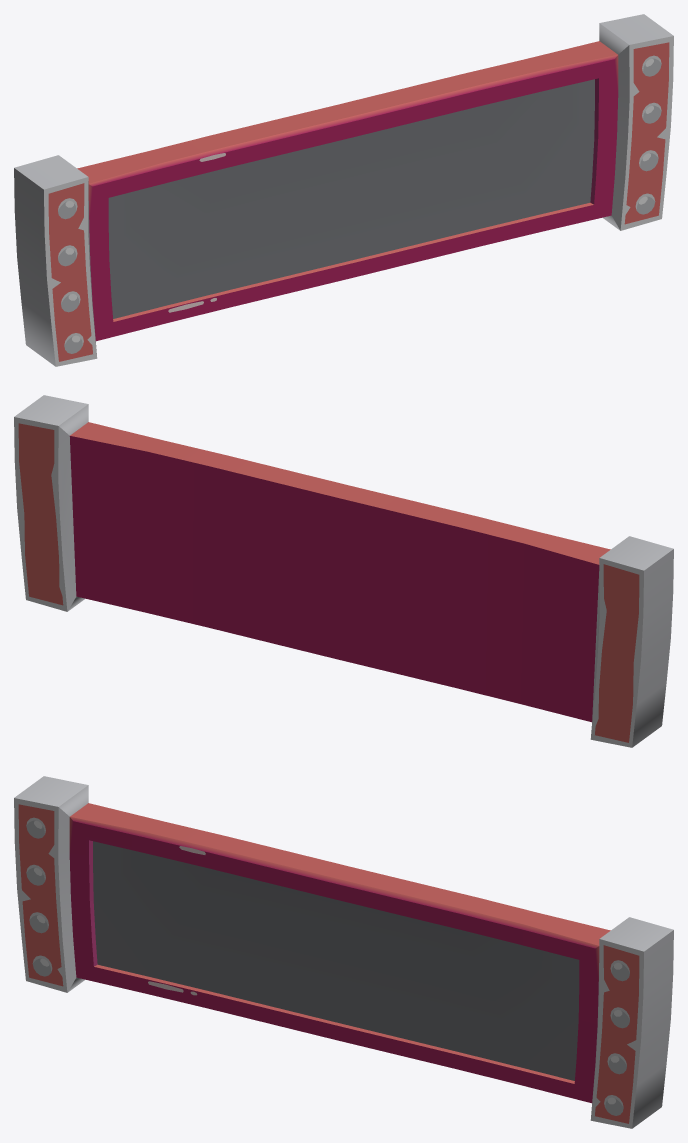
Rendered from RedRaceSign.glb.
3 renders of one model, top to bottom at view 1: azimuth 30°, elevation 25°; view 2: azimuth 150°, elevation 25°; view 3: azimuth 330°, elevation 25°, orthographic.
Parts seen in each view (by area): view 1: RedRaceSign; view 2: RedRaceSign; view 3: RedRaceSign.
Part boxes in pixels (x1,y1,x2,y2): RedRaceSign: (14, 14, 673, 366); RedRaceSign: (14, 395, 673, 747); RedRaceSign: (14, 776, 673, 1128).
Bounding box in the file's own units: 2.3 × 0.6423 × 0.1943.
